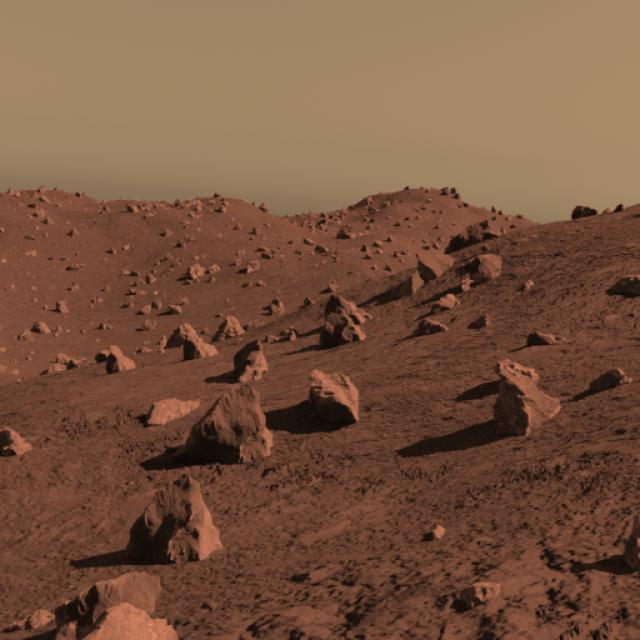rock: (113, 474, 227, 567), (58, 557, 168, 640), (184, 374, 276, 464), (486, 364, 568, 436), (305, 368, 361, 424), (146, 393, 198, 425)
